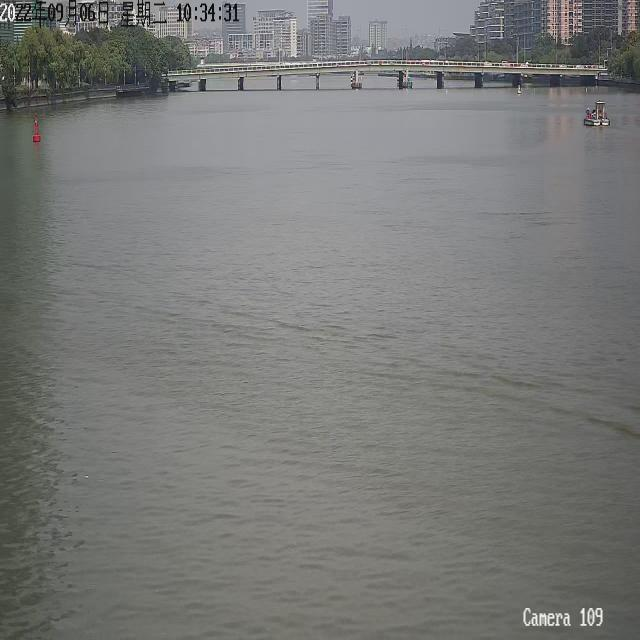ship: (583, 100, 609, 126)
